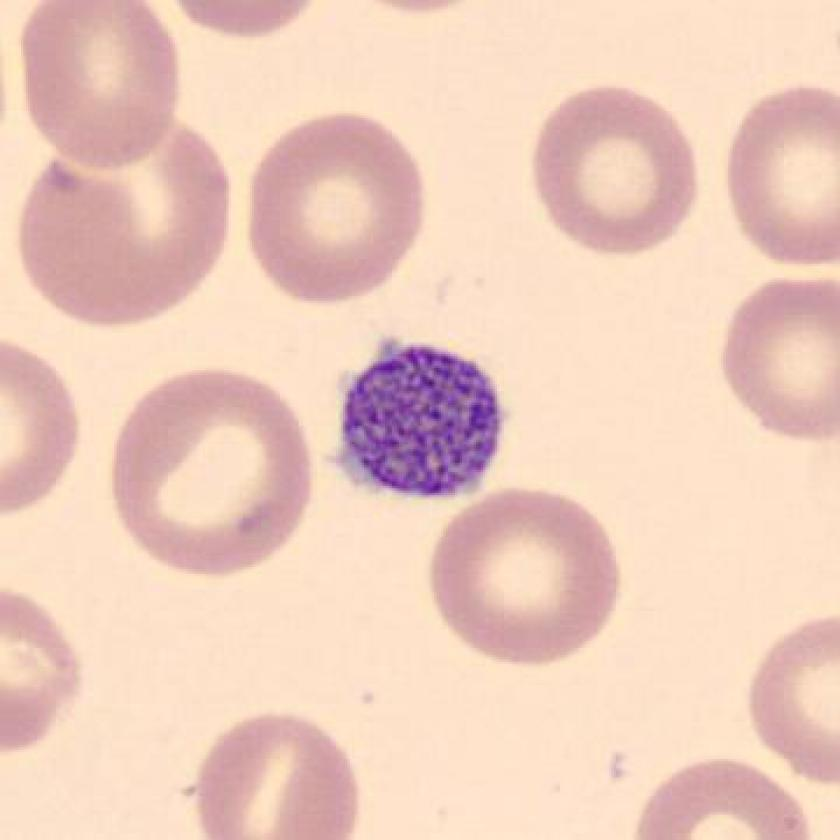platelets: (337, 337, 512, 510)
